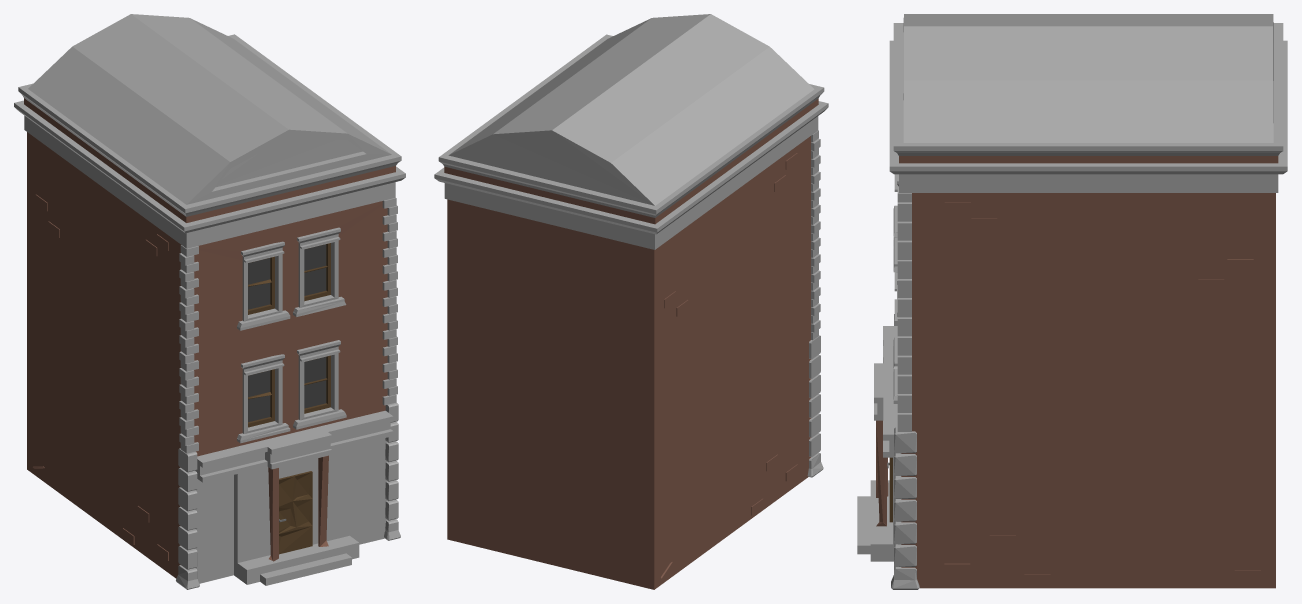
File: town3s.glb
The picture shows the model from 3 angles, left to right: view 1: azimuth 30°, elevation 25°; view 2: azimuth 150°, elevation 25°; view 3: azimuth 270°, elevation 25°; orthographic projection. The views are drawn at different scales.
Visible parts, largest first — view 1: Building3_Small; view 2: Building3_Small; view 3: Building3_Small.
Part boxes in pixels (x1,y1,x2,y2): Building3_Small: (14,14,405,589); Building3_Small: (434,14,828,589); Building3_Small: (857,14,1287,589).
Size of the model in its own units: 3.05 by 5.68 by 4.4.
